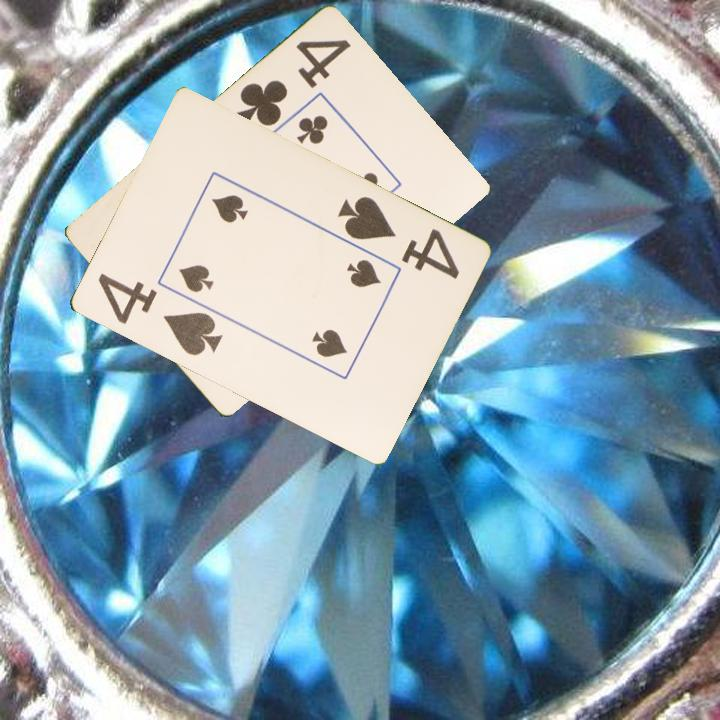4c: (232, 36, 354, 130)
4s: (93, 269, 225, 359), (333, 192, 462, 282)
